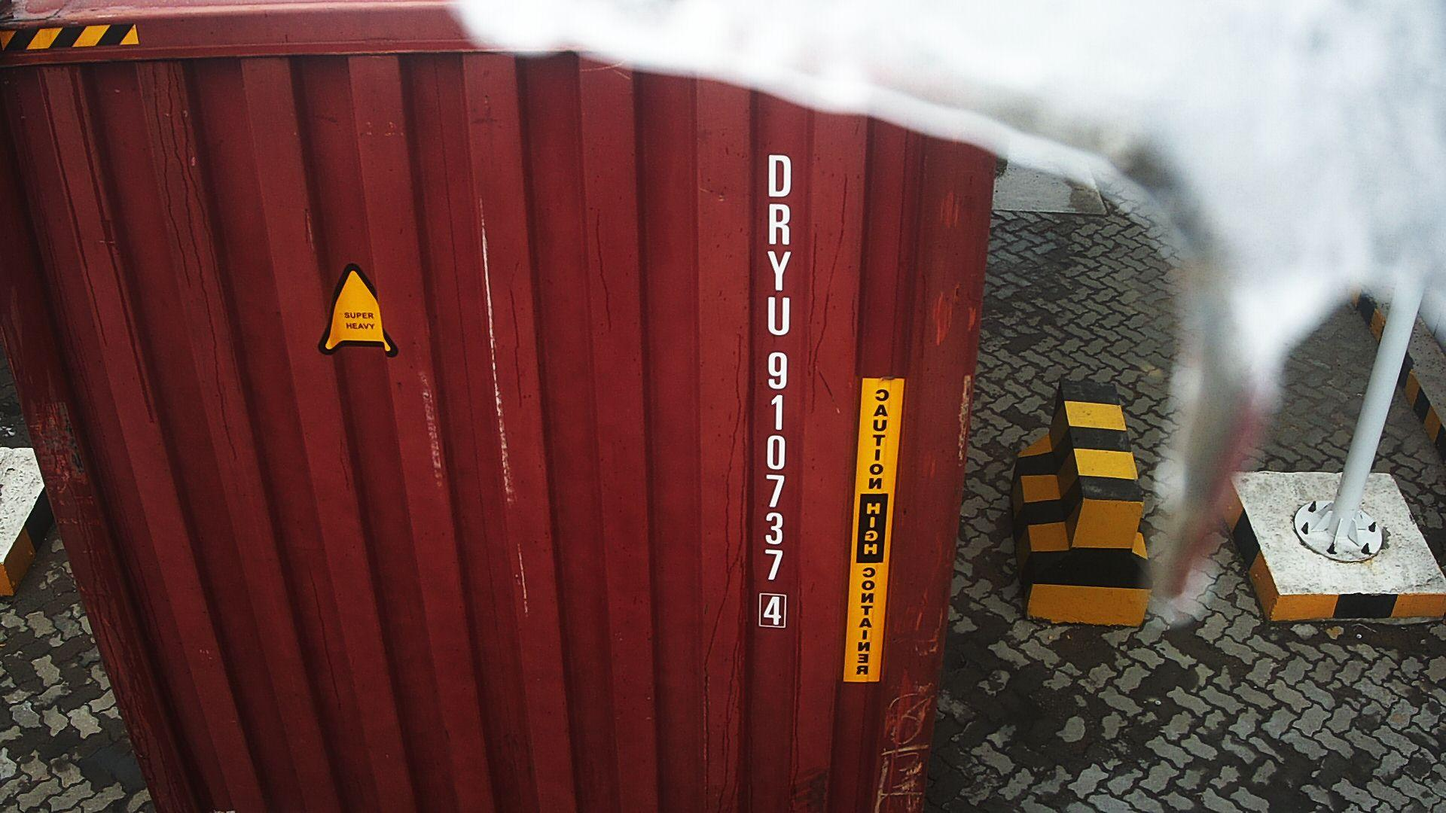container-numbers: (754, 151, 798, 629)
